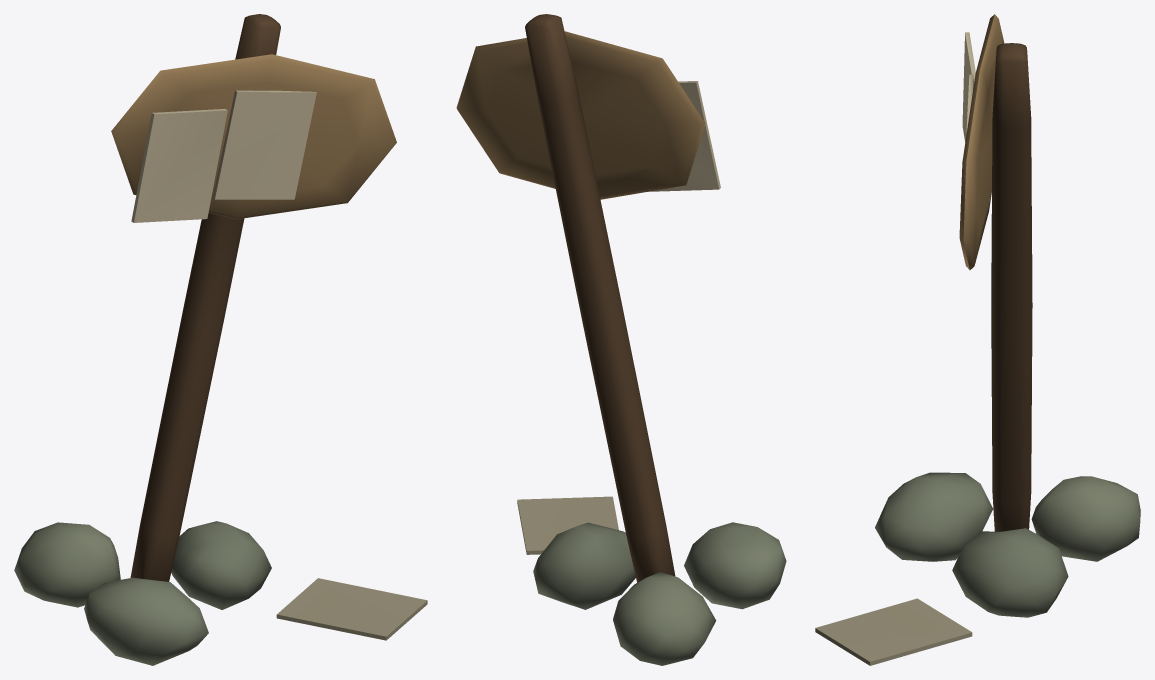
The model's file is notice_post_b.glb.
The picture shows the model from 3 angles, left to right: view 1: azimuth 30°, elevation 25°; view 2: azimuth 150°, elevation 25°; view 3: azimuth 270°, elevation 25°; orthographic projection.
Visible parts, largest first — view 1: Surface; view 2: Surface; view 3: Surface.
Boxes of the visible parts, x1,y1,x2,y2 form: Surface: (14,14,427,665); Surface: (456,14,786,665); Surface: (815,14,1140,665).
Bounding box in the file's own units: 1.26 × 2.19 × 1.1.
